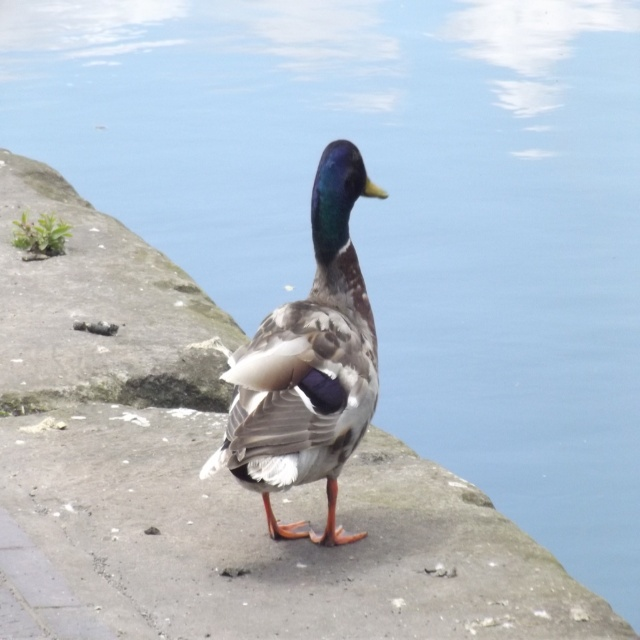Duck: (212, 130, 410, 566)
